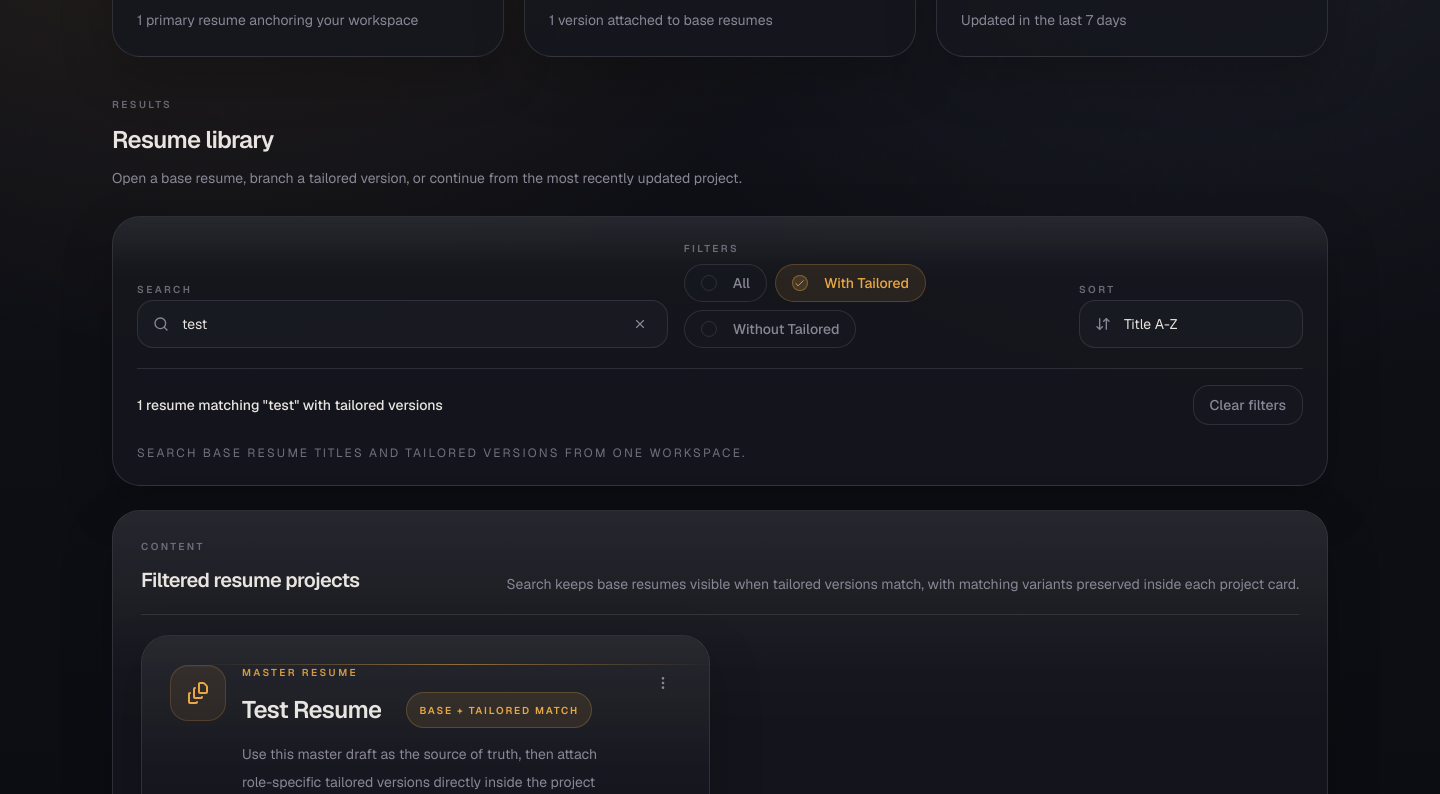
Test: DashboardPageClient › reset controls (Clear filters button) › resets all controls and pushes clean URL when Clear filters is clicked from controls bar
(page scrolled)
Expected: the search field labelled "Search" holds "test", 137,300 -> 668,348
Expected: the dropdown labelled "Sort" shows "Title A-Z", 1079,300 -> 1303,348
Click the button "Clear filters" at (1248, 405), box 1192,385 -> 1303,425
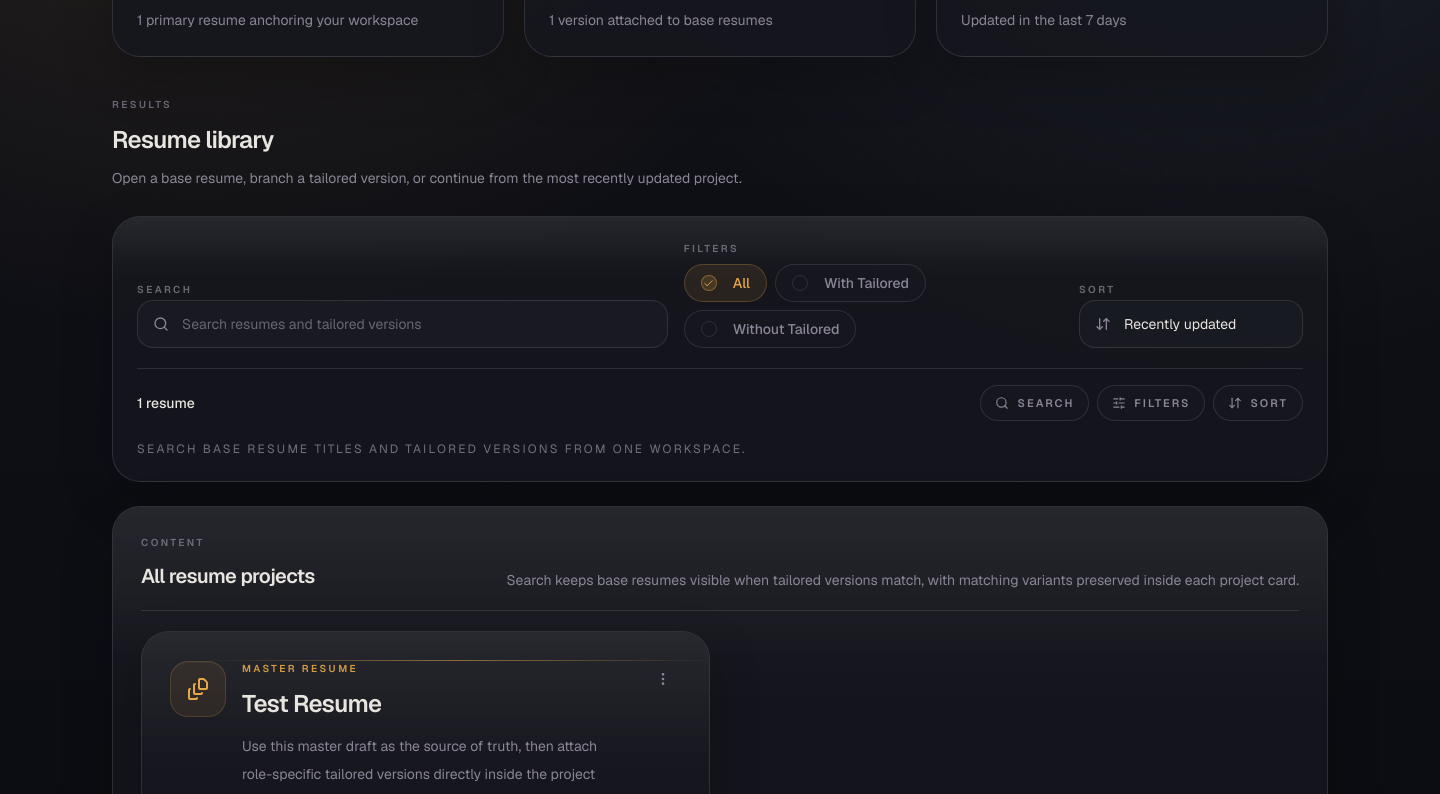
Expected: the search field labelled "Search" is empty, 137,300 -> 668,348
Expected: the dropdown labelled "Sort" shows "Recently updated", 1079,300 -> 1303,348
